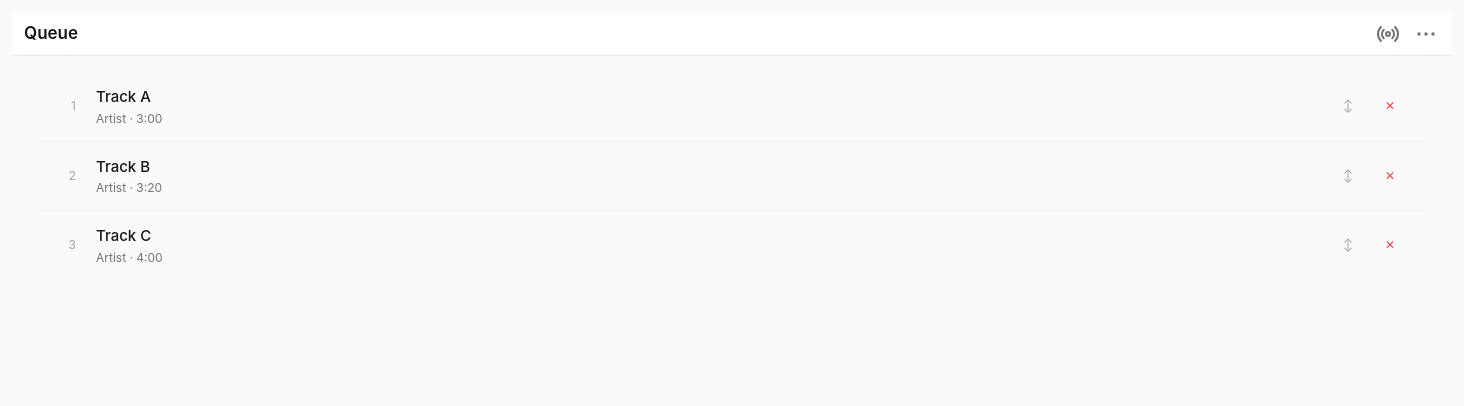
Test case: QueueView › select mode › clicking the toggle enters select mode — checkboxes appear, position numbers hidden
The image size is (1464, 406).
What coordinates should you click on to do the following:
click the button with test id "queue-menu"
I would click on:
 (1426, 34)
Its box is top-left (1408, 16), bottom-right (1444, 52).
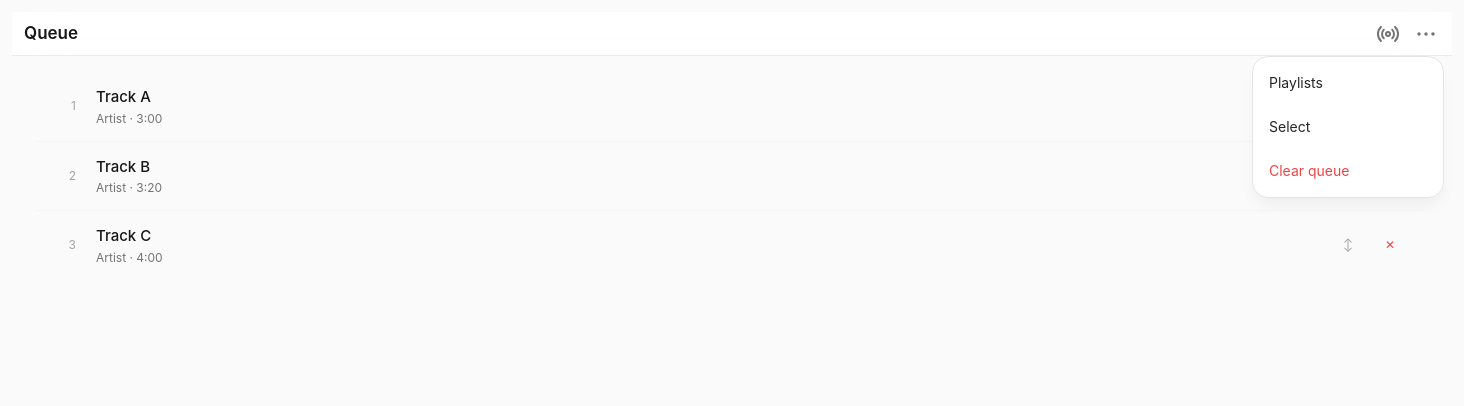
What coordinates should you click on to do the following:
click the menu item with test id "queue-select-mode-toggle"
I would click on:
 (1348, 126)
Its box is top-left (1257, 104), bottom-right (1439, 148).
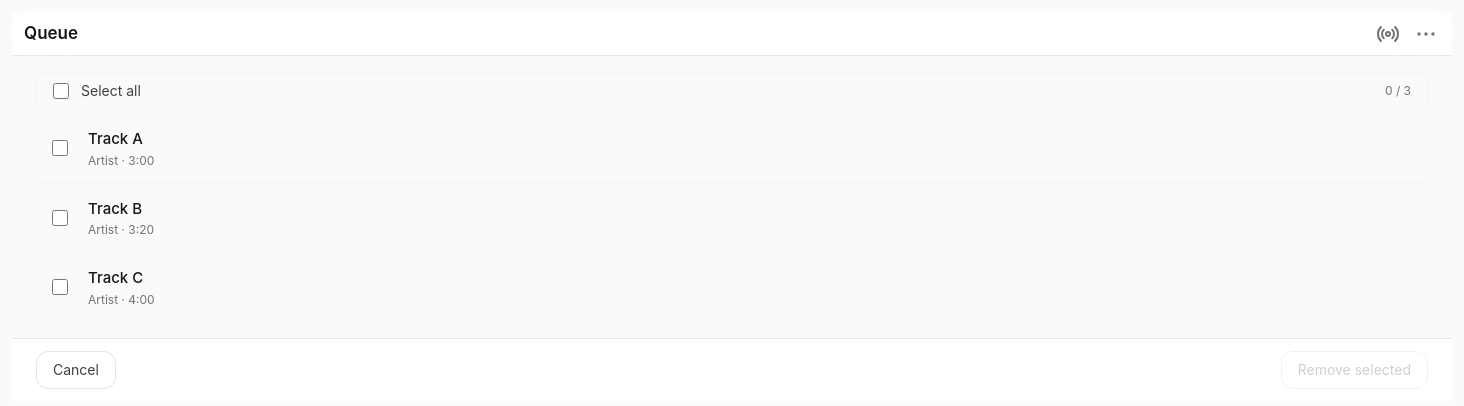
Check: no buttons with test id "queue-track-remove" are shown
